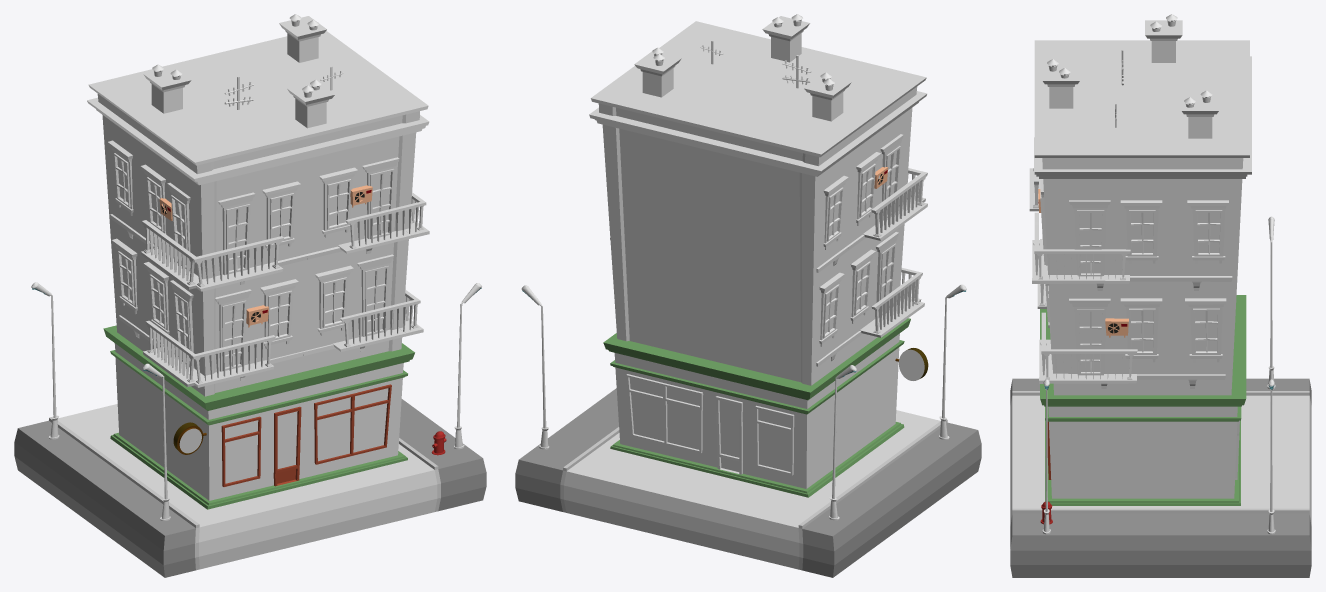
Rendered from Maison.fbx.
3 views of the same model, side by side, from view 1: azimuth 30°, elevation 25°; view 2: azimuth 150°, elevation 25°; view 3: azimuth 270°, elevation 25° (orthographic). The views are drawn at different scales.
Parts seen in each view (by area): view 1: bâtiment, Plane.001, café, toit, toit.001, grande fenêtre.001, grande fenêtre.002, grande fenêtre.003, fenêtre, fenêtre.002, grande fenêtre.000, fenêtre.001 (+28 smaller); view 2: bâtiment, Plane.001, café, toit, toit.001, barrière.008, barrière.009, Cube.002, Cube.001, Cube, fenêtre.011, fenêtre.010 (+11 smaller); view 3: Plane.001, bâtiment, café, toit, grande fenêtre.006, grande fenêtre.004, fenêtre.006, fenêtre.004, fenêtre.005, fenêtre.007, toit.001, Cube (+13 smaller).
Part boxes in pixels (x1,y1,x2,y2): bâtiment: (97, 94, 419, 396); Plane.001: (14, 399, 486, 577); café: (103, 325, 414, 509); toit: (88, 31, 428, 165); toit.001: (87, 97, 429, 181); grande fenêtre.001: (218, 192, 255, 275); grande fenêtre.002: (215, 289, 251, 371); grande fenêtre.003: (357, 254, 393, 336); fenêtre: (319, 167, 357, 237); fenêtre.002: (315, 265, 353, 335); grande fenêtre.000: (362, 157, 399, 238); fenêtre.001: (262, 181, 300, 250); bâtiment: (598, 86, 917, 385); Plane.001: (515, 388, 981, 577); café: (603, 318, 910, 497); toit: (590, 21, 926, 157); toit.001: (589, 91, 927, 173); barrière.008: (871, 173, 926, 237); barrière.009: (871, 273, 922, 333); Cube.002: (634, 51, 681, 97); Cube.001: (804, 76, 851, 121); Cube: (762, 16, 809, 62); fenêtre.011: (819, 272, 844, 346); fenêtre.010: (850, 249, 875, 323); Plane.001: (1010, 378, 1311, 577); bâtiment: (1042, 158, 1243, 395); café: (1040, 295, 1246, 505); toit: (1034, 40, 1249, 157); grande fenêtre.006: (1069, 298, 1110, 375); grande fenêtre.004: (1069, 200, 1110, 276); fenêtre.006: (1185, 298, 1226, 362); fenêtre.004: (1187, 200, 1228, 263); fenêtre.005: (1120, 200, 1162, 263); fenêtre.007: (1120, 298, 1162, 362); toit.001: (1034, 56, 1251, 174); Cube: (1042, 66, 1079, 108).
Bounding box in the file's own units: 449 × 554 × 342.
